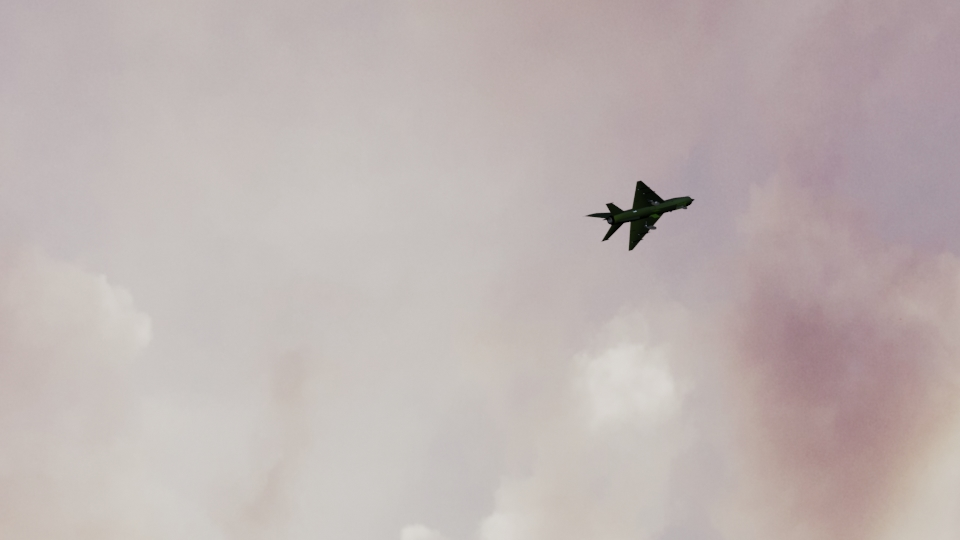plane: (585, 180, 695, 251)
